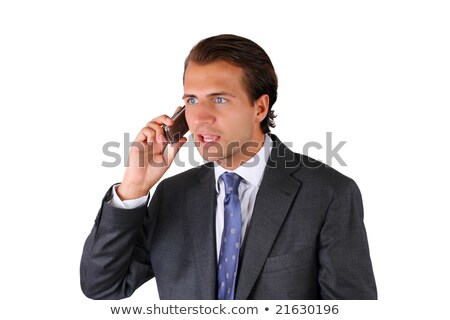phone: (153, 99, 195, 155)
talk: (124, 89, 246, 183)
